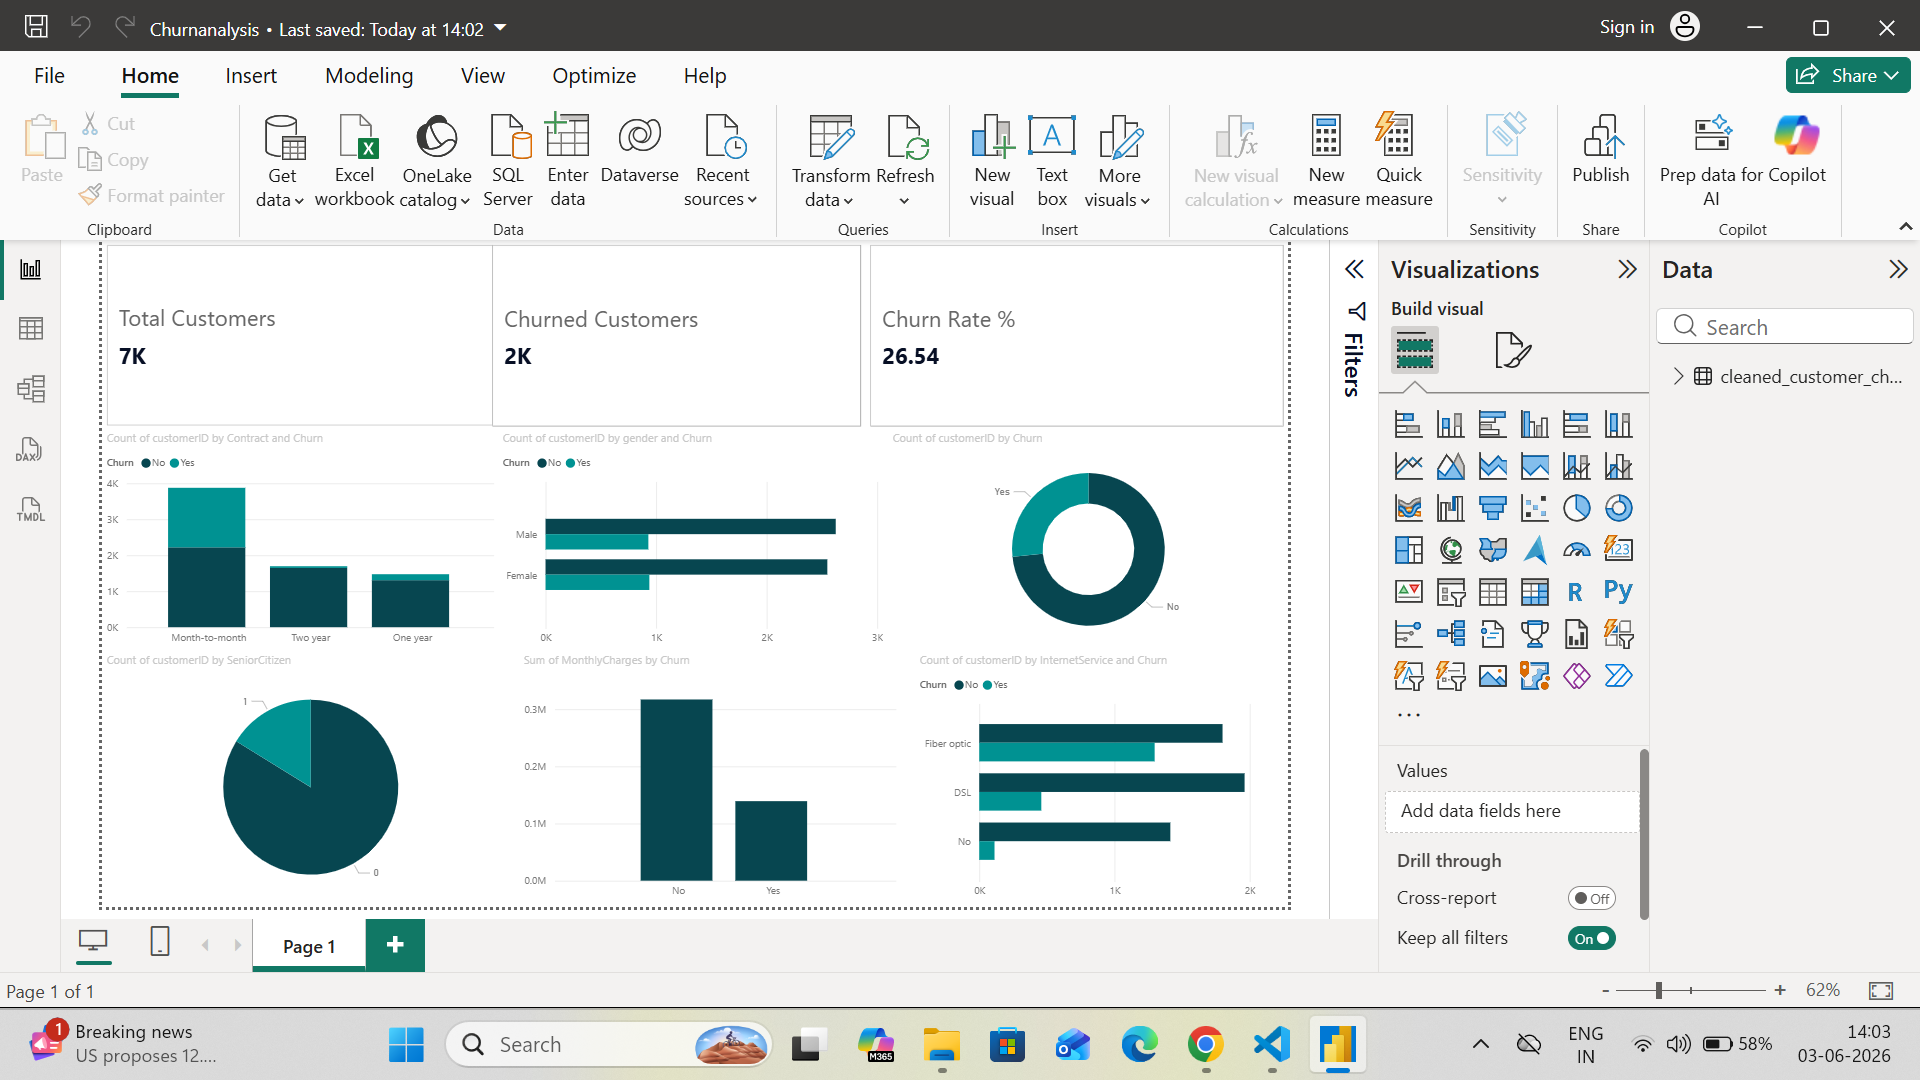

The page's visual inventory and layout, read from the dashboard file:
{"tool":"powerbi","page":{"name":"Page 1","canvas":[1280,720],"ordinal":0},"visuals":[{"type":"cardVisual","fields":{"Data":["cleaned_customer_churn.Total Customers"]},"box":[0,0,427.5,205.6],"z":0},{"type":"cardVisual","fields":{"Data":["cleaned_customer_churn.Churned Customers"]},"box":[416,0,408,206],"z":1000},{"type":"cardVisual","fields":{"Data":["cleaned_customer_churn.Churn Rate %"]},"box":[824,0,456,206],"z":2000},{"type":"columnChart","fields":{"Series":["cleaned_customer_churn.Churn"],"Category":["cleaned_customer_churn.Contract"],"Y":["CountNonNull(cleaned_customer_churn.customerID)"]},"box":[0,206,428,240],"z":3000},{"type":"donutChart","fields":{"Category":["cleaned_customer_churn.Churn"],"Y":["CountNonNull(cleaned_customer_churn.customerID)"]},"box":[848,206,432,240],"z":4000},{"type":"clusteredBarChart","fields":{"Category":["cleaned_customer_churn.gender"],"Y":["CountNonNull(cleaned_customer_churn.customerID)"],"Series":["cleaned_customer_churn.Churn"]},"box":[428,206,420,240],"z":5000},{"type":"clusteredBarChart","fields":{"Category":["cleaned_customer_churn.InternetService"],"Y":["CountNonNull(cleaned_customer_churn.customerID)"],"Series":["cleaned_customer_churn.Churn"]},"box":[878,446,372,274],"z":6000},{"type":"clusteredColumnChart","fields":{"Category":["cleaned_customer_churn.Churn"],"Y":["Sum(cleaned_customer_churn.MonthlyCharges)"]},"box":[450,446,412,274],"z":7000},{"type":"pieChart","fields":{"Y":["CountNonNull(cleaned_customer_churn.customerID)"],"Category":["cleaned_customer_churn.SeniorCitizen"]},"box":[0,446,450,274],"z":8000}]}

Visuals, with their boxes on the page's 1280x720 design canvas (x1, y1, x2, y2). These are canvas units, not pixel positions in the 1920x1080 screenshot, which may show the page scaled, cropped or inside an application window:
cardVisual - cleaned_customer_churn.Total Customers: 0/0/428/206
cardVisual - cleaned_customer_churn.Churned Customers: 416/0/824/206
cardVisual - cleaned_customer_churn.Churn Rate %: 824/0/1280/206
columnChart - cleaned_customer_churn.Churn x cleaned_customer_churn.Contract: 0/206/428/446
donutChart - cleaned_customer_churn.Churn x CountNonNull(cleaned_customer_churn.customerID): 848/206/1280/446
clusteredBarChart - cleaned_customer_churn.gender x CountNonNull(cleaned_customer_churn.customerID): 428/206/848/446
clusteredBarChart - cleaned_customer_churn.InternetService x CountNonNull(cleaned_customer_churn.customerID): 878/446/1250/720
clusteredColumnChart - cleaned_customer_churn.Churn x Sum(cleaned_customer_churn.MonthlyCharges): 450/446/862/720
pieChart - CountNonNull(cleaned_customer_churn.customerID) x cleaned_customer_churn.SeniorCitizen: 0/446/450/720
